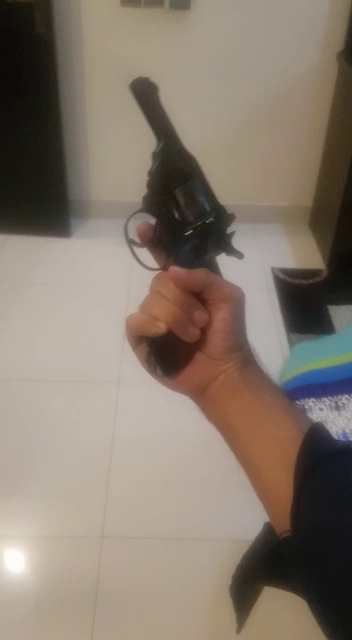handgun: (91, 67, 260, 374)
